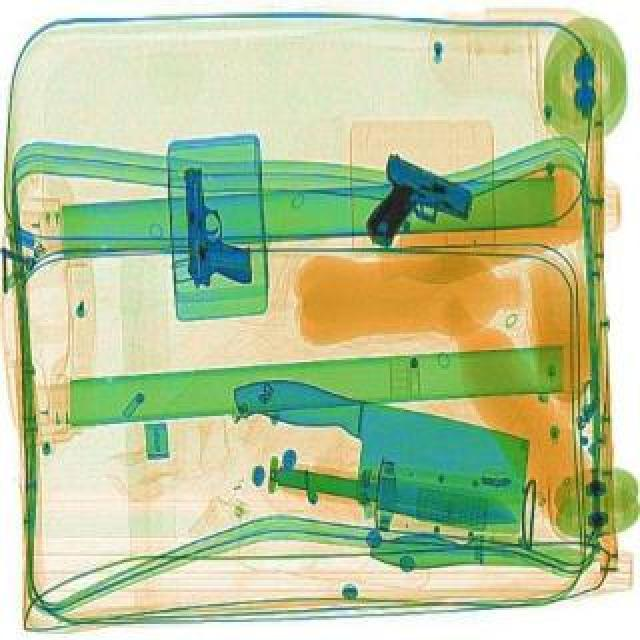gun: (352, 152, 480, 266), (184, 166, 252, 286)
knife: (208, 366, 544, 538), (272, 452, 524, 532), (366, 526, 598, 574)
